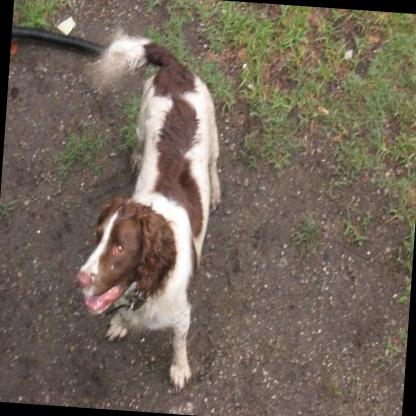Welsh_springer_spaniel: (68, 32, 229, 392)
